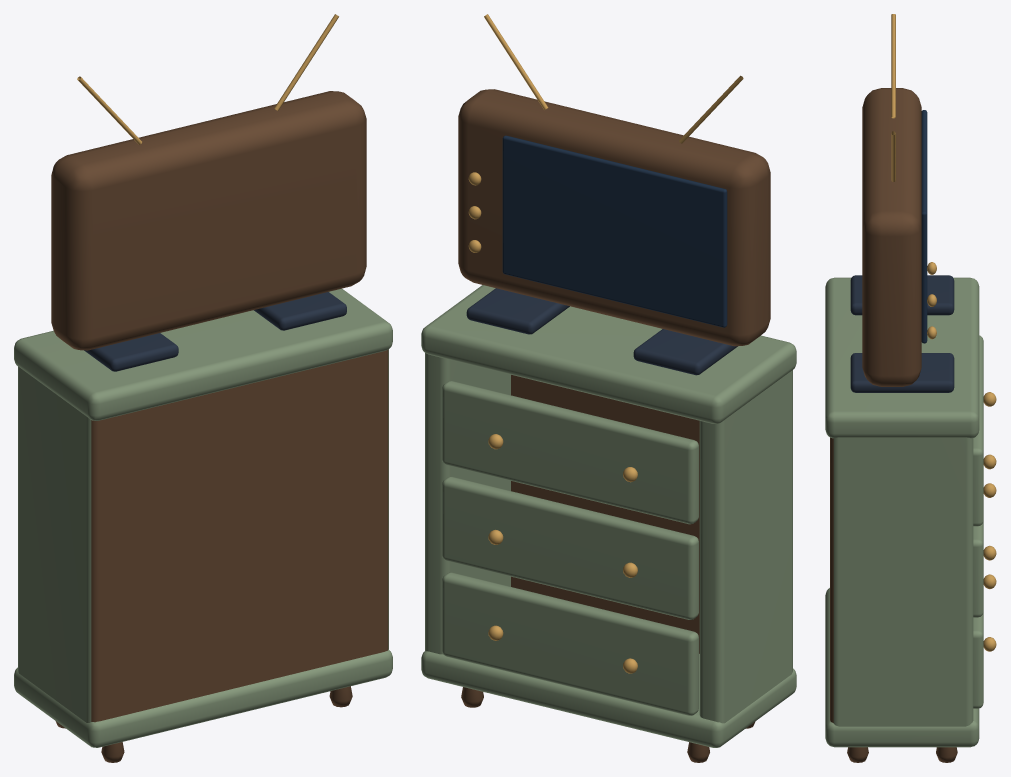
The model's file is television.glb.
3 renders of one model, left to right at view 1: azimuth 30°, elevation 25°; view 2: azimuth 150°, elevation 25°; view 3: azimuth 270°, elevation 25°, orthographic. The views are drawn at different scales.
Visible parts, largest first — view 1: House07_television; view 2: House07_television; view 3: House07_television.
Boxes of the visible parts, x1,y1,x2,y2 form: House07_television: (14,14,392,762); House07_television: (421,14,796,762); House07_television: (825,14,996,762).
Bounding box in the file's own units: 1.12 × 2.36 × 0.578.
